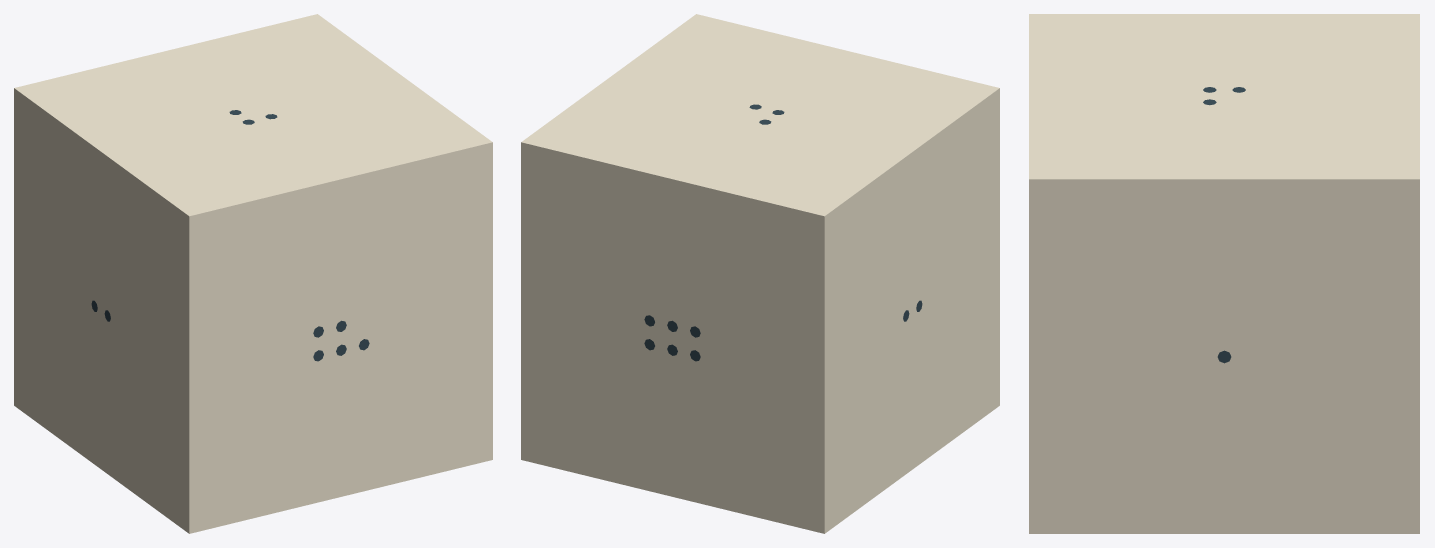
File: tabletop-game-components-d6-cube-3840dad9__20839.glb
The picture shows the model from 3 angles, left to right: view 1: azimuth 30°, elevation 25°; view 2: azimuth 150°, elevation 25°; view 3: azimuth 270°, elevation 25°; orthographic projection. The views are drawn at different scales.
Parts seen in each view (by area): view 1: d6-cube; view 2: d6-cube; view 3: d6-cube.
Part boxes in pixels (x1,y1,x2,y2): d6-cube: (14,14,492,533); d6-cube: (521,14,999,533); d6-cube: (1029,14,1419,533).
Bounding box in the file's own units: 0.0241 × 0.0241 × 0.0241.
